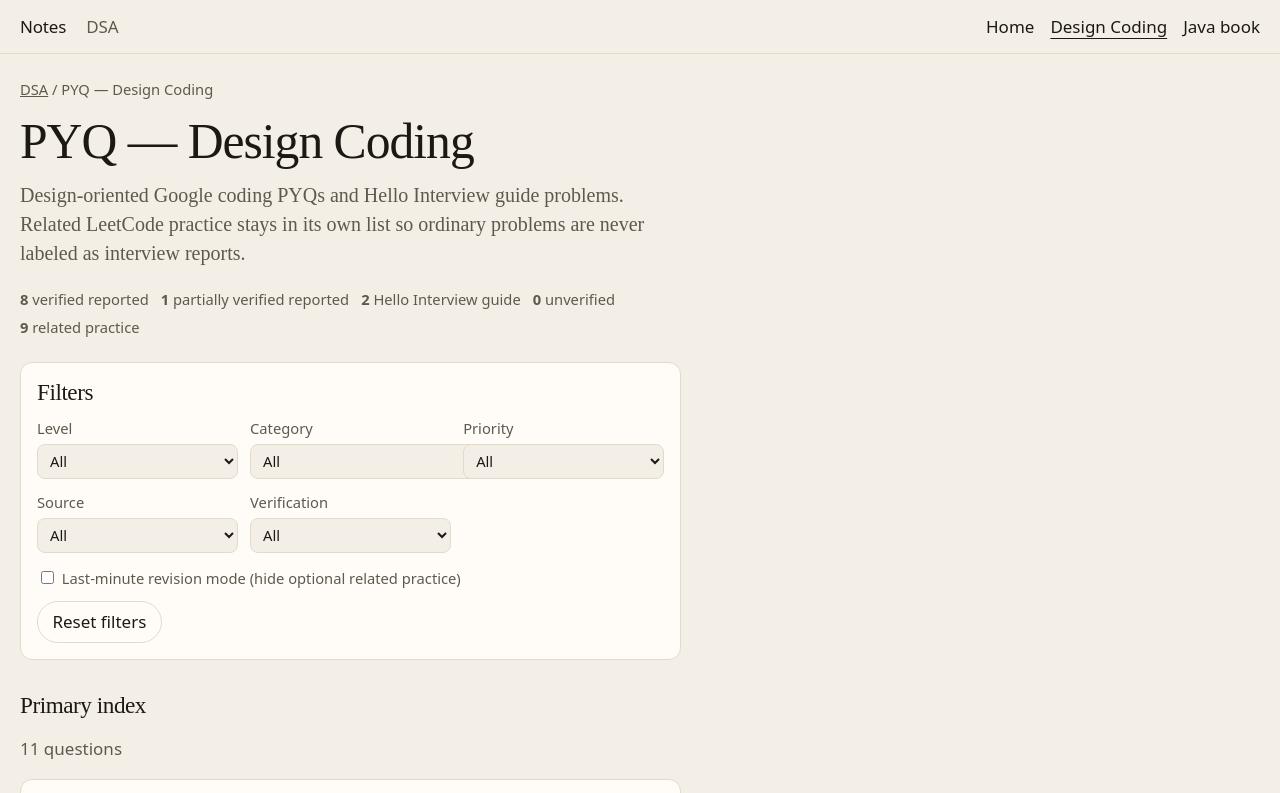
DSA design coding section › filters by source classification
Select "Related practice" in the dropdown labelled "Source" at (138, 535), box [37,518,238,553]
(page scrolled)
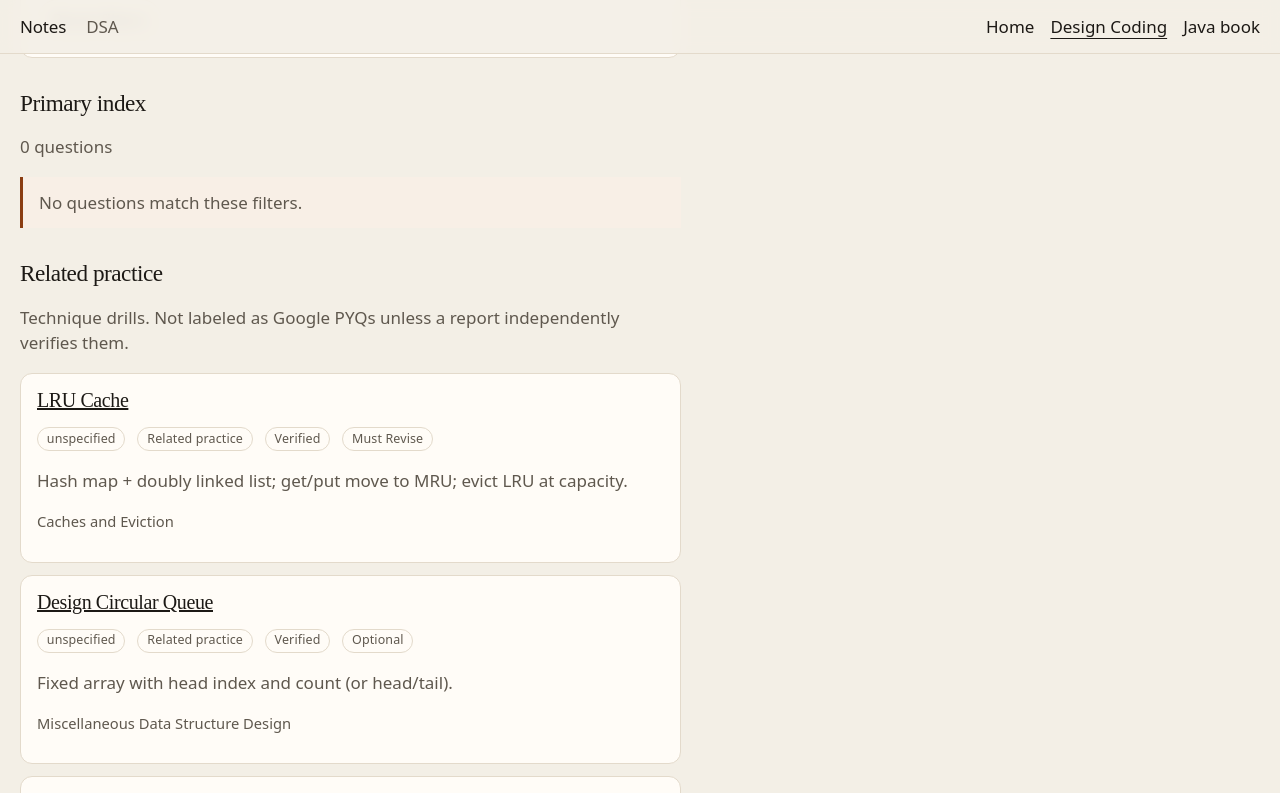
expect the element "Primary index" is shown: met, box [20,90,681,228]
expect the text "0 questions" is shown: met, box [20,135,112,158]
